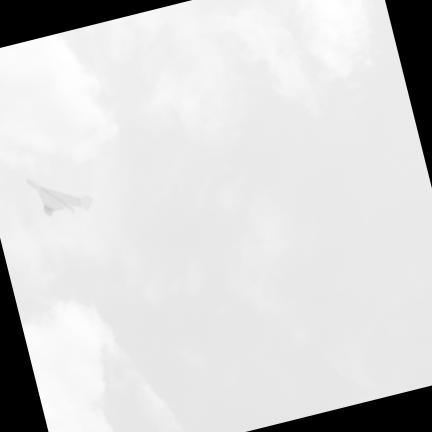Shahed: (26, 178, 91, 216)
